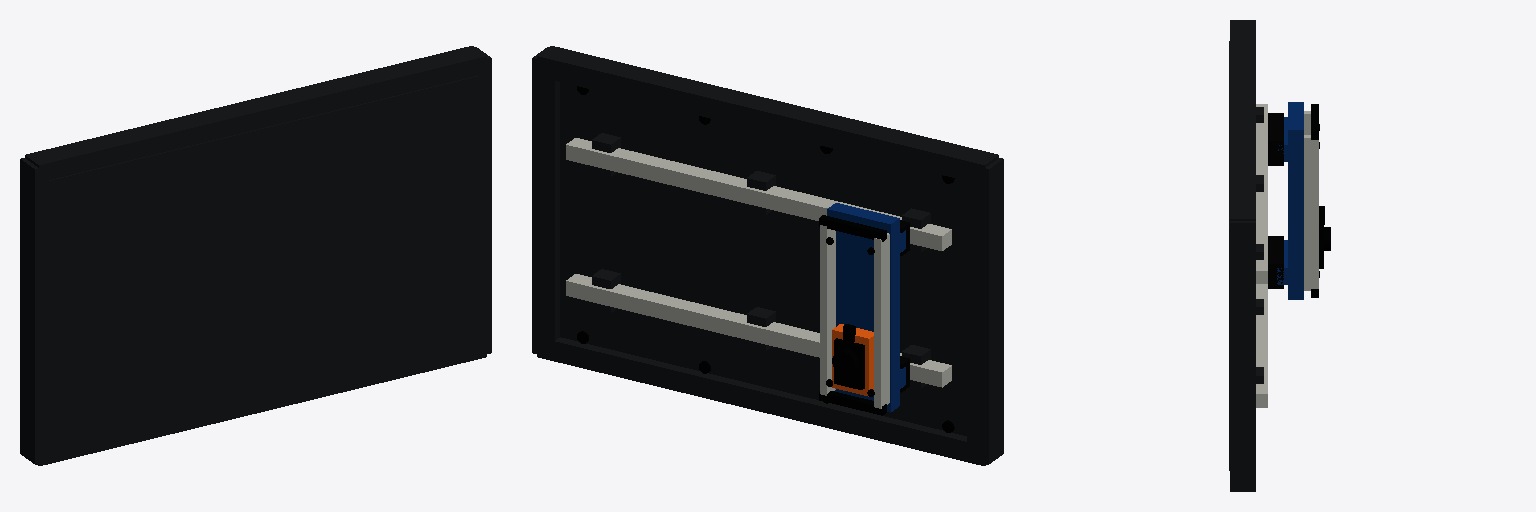
URDF robot description (side_wall_gantry_transfer_module):
<robot name="side_wall_gantry_transfer_module">
  <link name="rear_frame">
    <visual name="back_plate">
      <origin xyz="0 0 0.6" rpy="0 0 0" />
      <geometry>
        <box size="1.55 0.06 0.92" />
        </geometry>
      <material name="charcoal_painted_steel">
        <color rgba="0.1 0.11 0.12 1" />
        </material>
      </visual>
    <visual name="top_header">
      <origin xyz="0 0.02 1.085" rpy="0 0 0" />
      <geometry>
        <box size="1.62 0.09 0.07" />
        </geometry>
      <material name="charcoal_painted_steel">
        <color rgba="0.1 0.11 0.12 1" />
        </material>
      </visual>
    <visual name="bottom_header">
      <origin xyz="0 0.02 0.115" rpy="0 0 0" />
      <geometry>
        <box size="1.62 0.09 0.07" />
        </geometry>
      <material name="charcoal_painted_steel">
        <color rgba="0.1 0.11 0.12 1" />
        </material>
      </visual>
    <visual name="side_upright_0">
      <origin xyz="-0.785 0.02 0.6" rpy="0 0 0" />
      <geometry>
        <box size="0.08 0.09 1.02" />
        </geometry>
      <material name="charcoal_painted_steel">
        <color rgba="0.1 0.11 0.12 1" />
        </material>
      </visual>
    <visual name="side_upright_1">
      <origin xyz="0.785 0.02 0.6" rpy="0 0 0" />
      <geometry>
        <box size="0.08 0.09 1.02" />
        </geometry>
      <material name="charcoal_painted_steel">
        <color rgba="0.1 0.11 0.12 1" />
        </material>
      </visual>
    <visual name="upper_rail">
      <origin xyz="0 0.076 0.835" rpy="0 0 0" />
      <geometry>
        <box size="1.36 0.062 0.052" />
        </geometry>
      <material name="ground_steel_rail">
        <color rgba="0.72 0.72 0.69 1" />
        </material>
      </visual>
    <visual name="lower_rail">
      <origin xyz="0 0.076 0.365" rpy="0 0 0" />
      <geometry>
        <box size="1.36 0.062 0.052" />
        </geometry>
      <material name="ground_steel_rail">
        <color rgba="0.72 0.72 0.69 1" />
        </material>
      </visual>
    <visual name="upper_standoff_0">
      <origin xyz="-0.56 0.045 0.835" rpy="0 0 0" />
      <geometry>
        <box size="0.07 0.096 0.112" />
        </geometry>
      <material name="charcoal_painted_steel">
        <color rgba="0.1 0.11 0.12 1" />
        </material>
      </visual>
    <visual name="lower_standoff_0">
      <origin xyz="-0.56 0.045 0.365" rpy="0 0 0" />
      <geometry>
        <box size="0.07 0.096 0.112" />
        </geometry>
      <material name="charcoal_painted_steel">
        <color rgba="0.1 0.11 0.12 1" />
        </material>
      </visual>
    <visual name="upper_standoff_1">
      <origin xyz="0 0.045 0.835" rpy="0 0 0" />
      <geometry>
        <box size="0.07 0.096 0.112" />
        </geometry>
      <material name="charcoal_painted_steel">
        <color rgba="0.1 0.11 0.12 1" />
        </material>
      </visual>
    <visual name="lower_standoff_1">
      <origin xyz="0 0.045 0.365" rpy="0 0 0" />
      <geometry>
        <box size="0.07 0.096 0.112" />
        </geometry>
      <material name="charcoal_painted_steel">
        <color rgba="0.1 0.11 0.12 1" />
        </material>
      </visual>
    <visual name="upper_standoff_2">
      <origin xyz="0.56 0.045 0.835" rpy="0 0 0" />
      <geometry>
        <box size="0.07 0.096 0.112" />
        </geometry>
      <material name="charcoal_painted_steel">
        <color rgba="0.1 0.11 0.12 1" />
        </material>
      </visual>
    <visual name="lower_standoff_2">
      <origin xyz="0.56 0.045 0.365" rpy="0 0 0" />
      <geometry>
        <box size="0.07 0.096 0.112" />
        </geometry>
      <material name="charcoal_painted_steel">
        <color rgba="0.1 0.11 0.12 1" />
        </material>
      </visual>
    <visual name="wall_bolt_0_0">
      <origin xyz="-0.66 0.034 0.17" rpy="-1.5708 0 0" />
      <geometry>
        <cylinder radius="0.02" length="0.01" />
        </geometry>
      <material name="blackened_hardware">
        <color rgba="0.015 0.016 0.018 1" />
        </material>
      </visual>
    <visual name="wall_bolt_0_1">
      <origin xyz="-0.66 0.034 1.03" rpy="-1.5708 0 0" />
      <geometry>
        <cylinder radius="0.02" length="0.01" />
        </geometry>
      <material name="blackened_hardware">
        <color rgba="0.015 0.016 0.018 1" />
        </material>
      </visual>
    <visual name="wall_bolt_1_0">
      <origin xyz="-0.22 0.034 0.17" rpy="-1.5708 0 0" />
      <geometry>
        <cylinder radius="0.02" length="0.01" />
        </geometry>
      <material name="blackened_hardware">
        <color rgba="0.015 0.016 0.018 1" />
        </material>
      </visual>
    <visual name="wall_bolt_1_1">
      <origin xyz="-0.22 0.034 1.03" rpy="-1.5708 0 0" />
      <geometry>
        <cylinder radius="0.02" length="0.01" />
        </geometry>
      <material name="blackened_hardware">
        <color rgba="0.015 0.016 0.018 1" />
        </material>
      </visual>
    <visual name="wall_bolt_2_0">
      <origin xyz="0.22 0.034 0.17" rpy="-1.5708 0 0" />
      <geometry>
        <cylinder radius="0.02" length="0.01" />
        </geometry>
      <material name="blackened_hardware">
        <color rgba="0.015 0.016 0.018 1" />
        </material>
      </visual>
    <visual name="wall_bolt_2_1">
      <origin xyz="0.22 0.034 1.03" rpy="-1.5708 0 0" />
      <geometry>
        <cylinder radius="0.02" length="0.01" />
        </geometry>
      <material name="blackened_hardware">
        <color rgba="0.015 0.016 0.018 1" />
        </material>
      </visual>
    <visual name="wall_bolt_3_0">
      <origin xyz="0.66 0.034 0.17" rpy="-1.5708 0 0" />
      <geometry>
        <cylinder radius="0.02" length="0.01" />
        </geometry>
      <material name="blackened_hardware">
        <color rgba="0.015 0.016 0.018 1" />
        </material>
      </visual>
    <visual name="wall_bolt_3_1">
      <origin xyz="0.66 0.034 1.03" rpy="-1.5708 0 0" />
      <geometry>
        <cylinder radius="0.02" length="0.01" />
        </geometry>
      <material name="blackened_hardware">
        <color rgba="0.015 0.016 0.018 1" />
        </material>
      </visual>
    <collision name="back_plate">
      <origin xyz="0 0 0.6" rpy="0 0 0" />
      <geometry>
        <box size="1.55 0.06 0.92" />
        </geometry>
      </collision>
    <collision name="top_header">
      <origin xyz="0 0.02 1.085" rpy="0 0 0" />
      <geometry>
        <box size="1.62 0.09 0.07" />
        </geometry>
      </collision>
    <collision name="bottom_header">
      <origin xyz="0 0.02 0.115" rpy="0 0 0" />
      <geometry>
        <box size="1.62 0.09 0.07" />
        </geometry>
      </collision>
    <collision name="side_upright_0">
      <origin xyz="-0.785 0.02 0.6" rpy="0 0 0" />
      <geometry>
        <box size="0.08 0.09 1.02" />
        </geometry>
      </collision>
    <collision name="side_upright_1">
      <origin xyz="0.785 0.02 0.6" rpy="0 0 0" />
      <geometry>
        <box size="0.08 0.09 1.02" />
        </geometry>
      </collision>
    <collision name="upper_rail">
      <origin xyz="0 0.076 0.835" rpy="0 0 0" />
      <geometry>
        <box size="1.36 0.062 0.052" />
        </geometry>
      </collision>
    <collision name="lower_rail">
      <origin xyz="0 0.076 0.365" rpy="0 0 0" />
      <geometry>
        <box size="1.36 0.062 0.052" />
        </geometry>
      </collision>
    <collision name="upper_standoff_0">
      <origin xyz="-0.56 0.045 0.835" rpy="0 0 0" />
      <geometry>
        <box size="0.07 0.096 0.112" />
        </geometry>
      </collision>
    <collision name="lower_standoff_0">
      <origin xyz="-0.56 0.045 0.365" rpy="0 0 0" />
      <geometry>
        <box size="0.07 0.096 0.112" />
        </geometry>
      </collision>
    <collision name="upper_standoff_1">
      <origin xyz="0 0.045 0.835" rpy="0 0 0" />
      <geometry>
        <box size="0.07 0.096 0.112" />
        </geometry>
      </collision>
    <collision name="lower_standoff_1">
      <origin xyz="0 0.045 0.365" rpy="0 0 0" />
      <geometry>
        <box size="0.07 0.096 0.112" />
        </geometry>
      </collision>
    <collision name="upper_standoff_2">
      <origin xyz="0.56 0.045 0.835" rpy="0 0 0" />
      <geometry>
        <box size="0.07 0.096 0.112" />
        </geometry>
      </collision>
    <collision name="lower_standoff_2">
      <origin xyz="0.56 0.045 0.365" rpy="0 0 0" />
      <geometry>
        <box size="0.07 0.096 0.112" />
        </geometry>
      </collision>
    <collision name="wall_bolt_0_0">
      <origin xyz="-0.66 0.034 0.17" rpy="-1.5708 0 0" />
      <geometry>
        <cylinder radius="0.02" length="0.01" />
        </geometry>
      </collision>
    <collision name="wall_bolt_0_1">
      <origin xyz="-0.66 0.034 1.03" rpy="-1.5708 0 0" />
      <geometry>
        <cylinder radius="0.02" length="0.01" />
        </geometry>
      </collision>
    <collision name="wall_bolt_1_0">
      <origin xyz="-0.22 0.034 0.17" rpy="-1.5708 0 0" />
      <geometry>
        <cylinder radius="0.02" length="0.01" />
        </geometry>
      </collision>
    <collision name="wall_bolt_1_1">
      <origin xyz="-0.22 0.034 1.03" rpy="-1.5708 0 0" />
      <geometry>
        <cylinder radius="0.02" length="0.01" />
        </geometry>
      </collision>
    <collision name="wall_bolt_2_0">
      <origin xyz="0.22 0.034 0.17" rpy="-1.5708 0 0" />
      <geometry>
        <cylinder radius="0.02" length="0.01" />
        </geometry>
      </collision>
    <collision name="wall_bolt_2_1">
      <origin xyz="0.22 0.034 1.03" rpy="-1.5708 0 0" />
      <geometry>
        <cylinder radius="0.02" length="0.01" />
        </geometry>
      </collision>
    <collision name="wall_bolt_3_0">
      <origin xyz="0.66 0.034 0.17" rpy="-1.5708 0 0" />
      <geometry>
        <cylinder radius="0.02" length="0.01" />
        </geometry>
      </collision>
    <collision name="wall_bolt_3_1">
      <origin xyz="0.66 0.034 1.03" rpy="-1.5708 0 0" />
      <geometry>
        <cylinder radius="0.02" length="0.01" />
        </geometry>
      </collision>
    </link>
  <link name="crosshead">
    <visual name="crosshead_web">
      <origin xyz="0 0.095 0" rpy="0 0 0" />
      <geometry>
        <box size="0.23 0.055 0.65" />
        </geometry>
      <material name="blue_anodized_crosshead">
        <color rgba="0.05 0.2 0.42 1" />
        </material>
      </visual>
    <visual name="upper_shoe">
      <origin xyz="0 0.0275 0.235" rpy="0 0 0" />
      <geometry>
        <box size="0.23 0.055 0.095" />
        </geometry>
      <material name="dark_polymer_wear_pad">
        <color rgba="0.03 0.03 0.035 1" />
        </material>
      </visual>
    <visual name="lower_shoe">
      <origin xyz="0 0.0275 -0.235" rpy="0 0 0" />
      <geometry>
        <box size="0.23 0.055 0.095" />
        </geometry>
      <material name="dark_polymer_wear_pad">
        <color rgba="0.03 0.03 0.035 1" />
        </material>
      </visual>
    <visual name="upper_shoe_bridge">
      <origin xyz="0 0.065 0.235" rpy="0 0 0" />
      <geometry>
        <box size="0.23 0.07 0.065" />
        </geometry>
      <material name="blue_anodized_crosshead">
        <color rgba="0.05 0.2 0.42 1" />
        </material>
      </visual>
    <visual name="lower_shoe_bridge">
      <origin xyz="0 0.065 -0.235" rpy="0 0 0" />
      <geometry>
        <box size="0.23 0.07 0.065" />
        </geometry>
      <material name="blue_anodized_crosshead">
        <color rgba="0.05 0.2 0.42 1" />
        </material>
      </visual>
    <visual name="guide_lip_0">
      <origin xyz="-0.098 0.1485 0" rpy="0 0 0" />
      <geometry>
        <box size="0.026 0.052 0.585" />
        </geometry>
      <material name="ground_steel_rail">
        <color rgba="0.72 0.72 0.69 1" />
        </material>
      </visual>
    <visual name="guide_lip_1">
      <origin xyz="0.098 0.1485 0" rpy="0 0 0" />
      <geometry>
        <box size="0.026 0.052 0.585" />
        </geometry>
      <material name="ground_steel_rail">
        <color rgba="0.72 0.72 0.69 1" />
        </material>
      </visual>
    <visual name="upper_travel_stop">
      <origin xyz="0 0.161 0.3" rpy="0 0 0" />
      <geometry>
        <box size="0.23 0.026 0.03" />
        </geometry>
      <material name="blackened_hardware">
        <color rgba="0.015 0.016 0.018 1" />
        </material>
      </visual>
    <visual name="lower_travel_stop">
      <origin xyz="0 0.161 -0.3" rpy="0 0 0" />
      <geometry>
        <box size="0.23 0.026 0.03" />
        </geometry>
      <material name="blackened_hardware">
        <color rgba="0.015 0.016 0.018 1" />
        </material>
      </visual>
    <visual name="shoe_cap_screw_0_0">
      <origin xyz="-0.075 0.176 -0.245" rpy="-1.5708 0 0" />
      <geometry>
        <cylinder radius="0.012" length="0.008" />
        </geometry>
      <material name="blackened_hardware">
        <color rgba="0.015 0.016 0.018 1" />
        </material>
      </visual>
    <visual name="shoe_cap_screw_0_1">
      <origin xyz="0.075 0.176 -0.245" rpy="-1.5708 0 0" />
      <geometry>
        <cylinder radius="0.012" length="0.008" />
        </geometry>
      <material name="blackened_hardware">
        <color rgba="0.015 0.016 0.018 1" />
        </material>
      </visual>
    <visual name="shoe_cap_screw_1_0">
      <origin xyz="-0.075 0.176 0.245" rpy="-1.5708 0 0" />
      <geometry>
        <cylinder radius="0.012" length="0.008" />
        </geometry>
      <material name="blackened_hardware">
        <color rgba="0.015 0.016 0.018 1" />
        </material>
      </visual>
    <visual name="shoe_cap_screw_1_1">
      <origin xyz="0.075 0.176 0.245" rpy="-1.5708 0 0" />
      <geometry>
        <cylinder radius="0.012" length="0.008" />
        </geometry>
      <material name="blackened_hardware">
        <color rgba="0.015 0.016 0.018 1" />
        </material>
      </visual>
    <collision name="crosshead_web">
      <origin xyz="0 0.095 0" rpy="0 0 0" />
      <geometry>
        <box size="0.23 0.055 0.65" />
        </geometry>
      </collision>
    <collision name="upper_shoe">
      <origin xyz="0 0.0275 0.235" rpy="0 0 0" />
      <geometry>
        <box size="0.23 0.055 0.095" />
        </geometry>
      </collision>
    <collision name="lower_shoe">
      <origin xyz="0 0.0275 -0.235" rpy="0 0 0" />
      <geometry>
        <box size="0.23 0.055 0.095" />
        </geometry>
      </collision>
    <collision name="upper_shoe_bridge">
      <origin xyz="0 0.065 0.235" rpy="0 0 0" />
      <geometry>
        <box size="0.23 0.07 0.065" />
        </geometry>
      </collision>
    <collision name="lower_shoe_bridge">
      <origin xyz="0 0.065 -0.235" rpy="0 0 0" />
      <geometry>
        <box size="0.23 0.07 0.065" />
        </geometry>
      </collision>
    <collision name="guide_lip_0">
      <origin xyz="-0.098 0.1485 0" rpy="0 0 0" />
      <geometry>
        <box size="0.026 0.052 0.585" />
        </geometry>
      </collision>
    <collision name="guide_lip_1">
      <origin xyz="0.098 0.1485 0" rpy="0 0 0" />
      <geometry>
        <box size="0.026 0.052 0.585" />
        </geometry>
      </collision>
    <collision name="upper_travel_stop">
      <origin xyz="0 0.161 0.3" rpy="0 0 0" />
      <geometry>
        <box size="0.23 0.026 0.03" />
        </geometry>
      </collision>
    <collision name="lower_travel_stop">
      <origin xyz="0 0.161 -0.3" rpy="0 0 0" />
      <geometry>
        <box size="0.23 0.026 0.03" />
        </geometry>
      </collision>
    <collision name="shoe_cap_screw_0_0">
      <origin xyz="-0.075 0.176 -0.245" rpy="-1.5708 0 0" />
      <geometry>
        <cylinder radius="0.012" length="0.008" />
        </geometry>
      </collision>
    <collision name="shoe_cap_screw_0_1">
      <origin xyz="0.075 0.176 -0.245" rpy="-1.5708 0 0" />
      <geometry>
        <cylinder radius="0.012" length="0.008" />
        </geometry>
      </collision>
    <collision name="shoe_cap_screw_1_0">
      <origin xyz="-0.075 0.176 0.245" rpy="-1.5708 0 0" />
      <geometry>
        <cylinder radius="0.012" length="0.008" />
        </geometry>
      </collision>
    <collision name="shoe_cap_screw_1_1">
      <origin xyz="0.075 0.176 0.245" rpy="-1.5708 0 0" />
      <geometry>
        <cylinder radius="0.012" length="0.008" />
        </geometry>
      </collision>
    </link>
  <link name="carriage">
    <visual name="carriage_body">
      <origin xyz="0 0.026 0.1" rpy="0 0 0" />
      <geometry>
        <box size="0.135 0.052 0.2" />
        </geometry>
      <material name="orange_carriage">
        <color rgba="0.92 0.38 0.08 1" />
        </material>
      </visual>
    <visual name="front_tool_plate">
      <origin xyz="0 0.061 0.1" rpy="0 0 0" />
      <geometry>
        <box size="0.102 0.018 0.15" />
        </geometry>
      <material name="blackened_hardware">
        <color rgba="0.015 0.016 0.018 1" />
        </material>
      </visual>
    <visual name="tool_mount_boss">
      <origin xyz="0 0.083 0.115" rpy="-1.5708 0 0" />
      <geometry>
        <cylinder radius="0.042" length="0.026" />
        </geometry>
      <material name="blackened_hardware">
        <color rgba="0.015 0.016 0.018 1" />
        </material>
      </visual>
    <visual name="cable_socket">
      <origin xyz="0 0.062 0.205" rpy="0 0 0" />
      <geometry>
        <box size="0.032 0.024 0.055" />
        </geometry>
      <material name="blackened_hardware">
        <color rgba="0.015 0.016 0.018 1" />
        </material>
      </visual>
    <collision name="carriage_body">
      <origin xyz="0 0.026 0.1" rpy="0 0 0" />
      <geometry>
        <box size="0.135 0.052 0.2" />
        </geometry>
      </collision>
    <collision name="front_tool_plate">
      <origin xyz="0 0.061 0.1" rpy="0 0 0" />
      <geometry>
        <box size="0.102 0.018 0.15" />
        </geometry>
      </collision>
    <collision name="tool_mount_boss">
      <origin xyz="0 0.083 0.115" rpy="-1.5708 0 0" />
      <geometry>
        <cylinder radius="0.042" length="0.026" />
        </geometry>
      </collision>
    <collision name="cable_socket">
      <origin xyz="0 0.062 0.205" rpy="0 0 0" />
      <geometry>
        <box size="0.032 0.024 0.055" />
        </geometry>
      </collision>
    </link>
  <joint name="frame_to_crosshead" type="prismatic">
    <origin xyz="-0.45 0.107 0.6" rpy="0 0 0" />
    <parent link="rear_frame" />
    <child link="crosshead" />
    <axis xyz="1 0 0" />
    <limit effort="180" velocity="0.55" lower="0" upper="0.9" />
    </joint>
  <joint name="crosshead_to_carriage" type="prismatic">
    <origin xyz="0 0.1225 -0.26" rpy="0 0 0" />
    <parent link="crosshead" />
    <child link="carriage" />
    <axis xyz="0 0 1" />
    <limit effort="60" velocity="0.35" lower="0" upper="0.32" />
    </joint>
  </robot>

--- What the picture shows (computed from the rendered views, not written in the file) ---
The picture shows the robot from 3 angles, left to right: view 1: azimuth 30°, elevation 25°; view 2: azimuth 150°, elevation 25°; view 3: azimuth 270°, elevation 25°; orthographic projection.
Model side_wall_gantry_transfer_module with 3 links and 2 joints (2 prismatic), rooted at rear_frame, posed all joints at 0.
Visible links, largest first — view 1: rear_frame; view 2: rear_frame, crosshead, carriage; view 3: rear_frame, crosshead.
Link boxes in pixels (bbox=[...]): rear_frame: bbox=[20, 46, 491, 465]; rear_frame: bbox=[532, 46, 1003, 465]; crosshead: bbox=[819, 203, 909, 415]; carriage: bbox=[832, 324, 873, 396]; rear_frame: bbox=[1229, 20, 1267, 491]; crosshead: bbox=[1268, 102, 1319, 299].
Bounding box of the posed robot: 1.65 × 0.3555 × 1.04 m (x, y, z).
Geometry: primitives only (box / cylinder / sphere), no mesh files.
